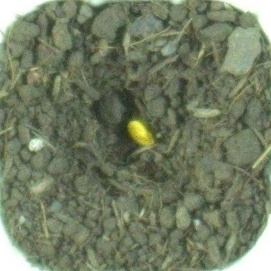chilli seed: (122, 118, 160, 149)
